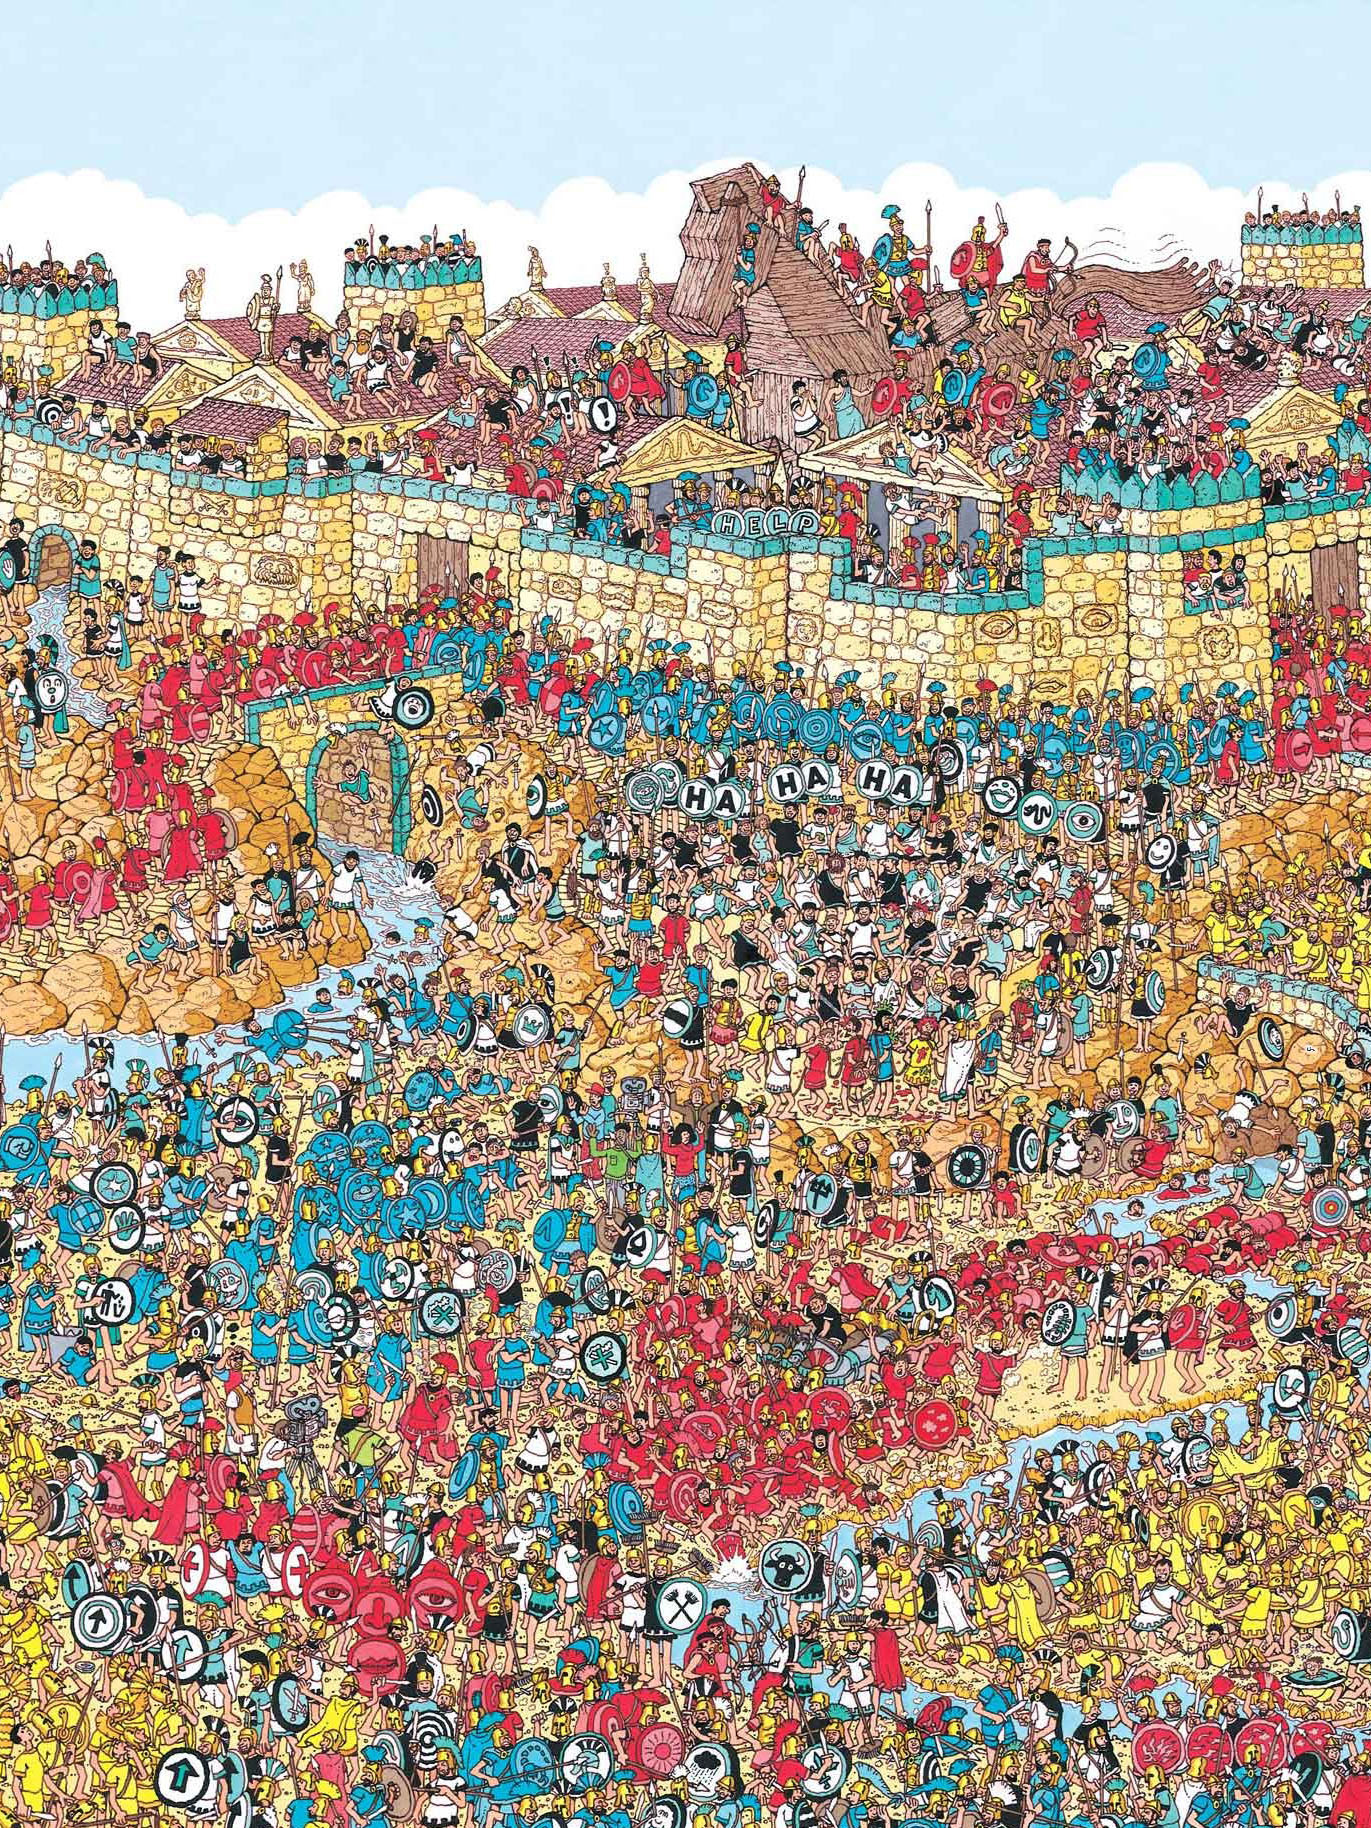waldo: (99, 1529, 125, 1562)
